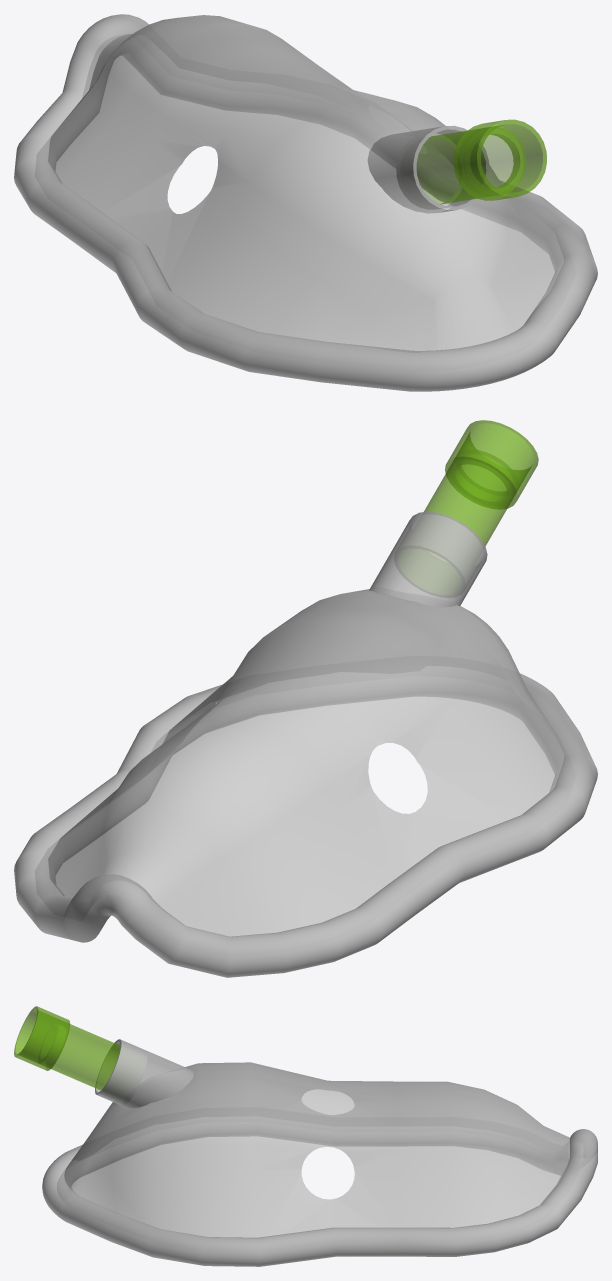
File: Oxygen Mask.fbx
3 renders of one model, top to bottom at view 1: azimuth 30°, elevation 25°; view 2: azimuth 150°, elevation 25°; view 3: azimuth 270°, elevation 25°, orthographic. The views are drawn at different scales.
Visible parts, largest first — view 1: Group1; view 2: Group1; view 3: Group1.
Part boxes in pixels (box(x1,y1,x2,y2)): Group1: box(14, 14, 597, 391); Group1: box(14, 420, 597, 977); Group1: box(14, 1006, 597, 1266).
Size of the model in its own units: 6.69 by 4.21 by 11.55.
